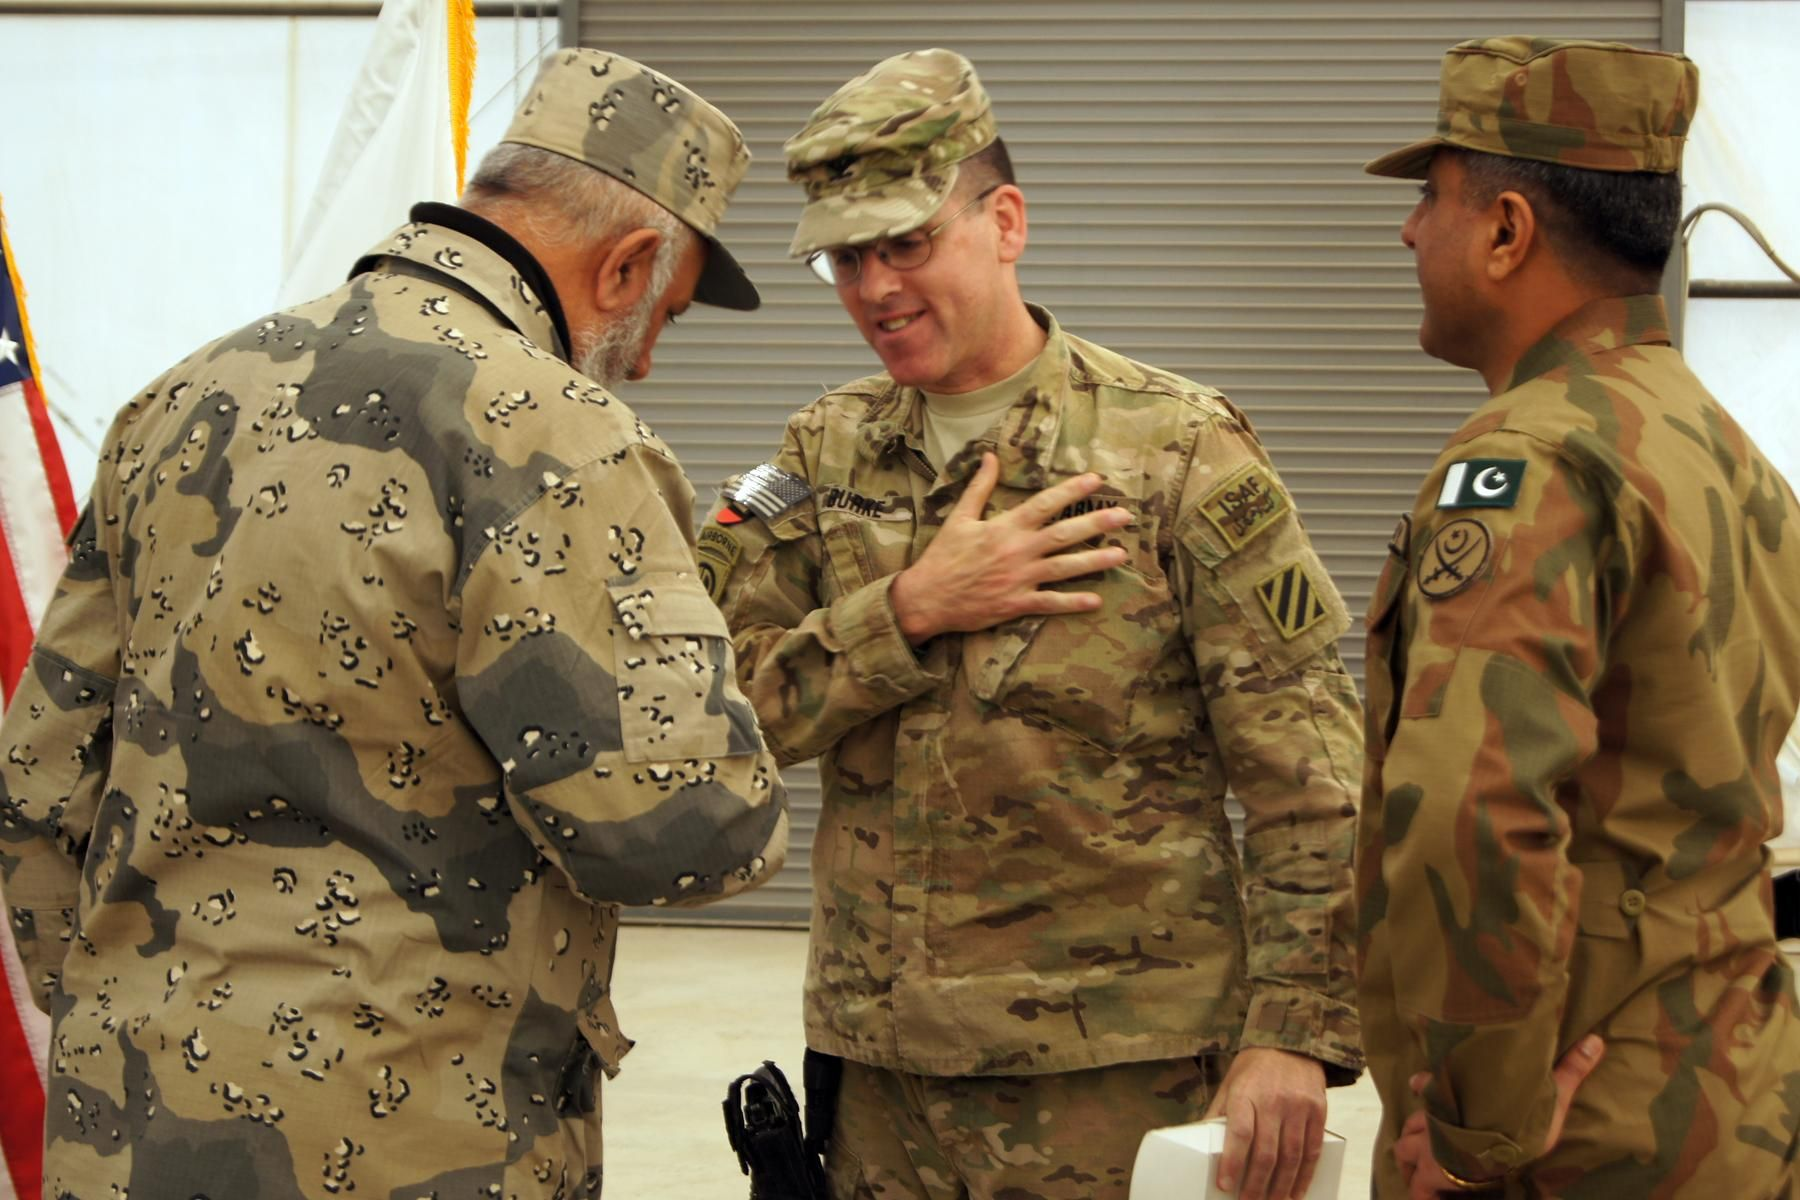uniform: (37, 166, 731, 1173), (717, 256, 1323, 1146), (1294, 287, 1784, 1160)
